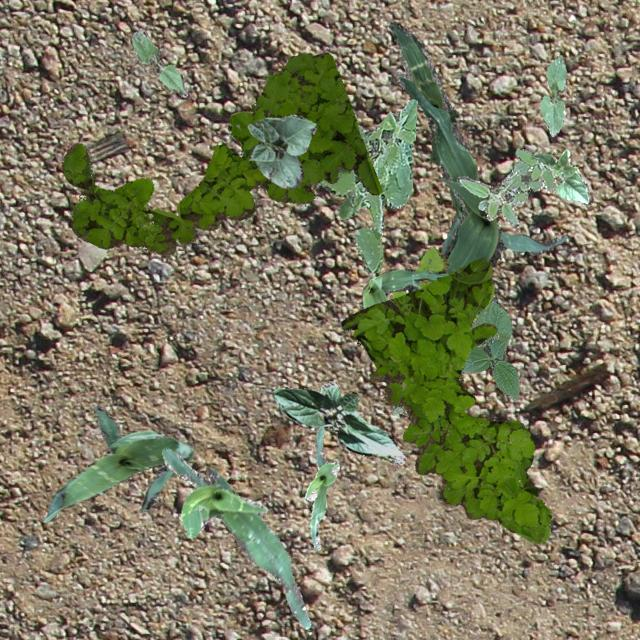crop: (388, 20, 502, 292), (160, 448, 310, 628), (41, 404, 192, 520), (272, 379, 404, 464), (440, 186, 566, 258), (459, 297, 518, 398), (247, 114, 316, 188), (304, 424, 338, 550), (130, 28, 188, 96), (362, 268, 446, 308), (532, 148, 588, 202), (538, 54, 566, 136)
weed: (61, 52, 382, 255), (340, 256, 550, 542), (316, 98, 416, 272), (456, 146, 556, 228), (388, 245, 494, 302), (389, 402, 407, 416), (469, 322, 474, 329)
